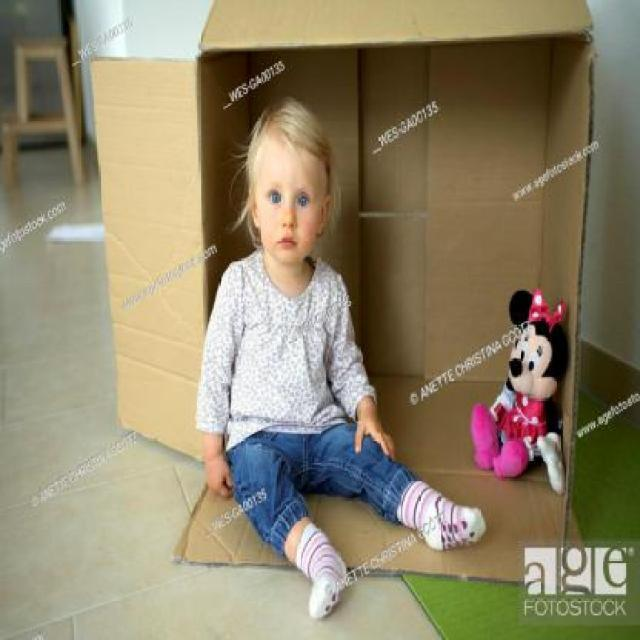box: (93, 2, 602, 593)
